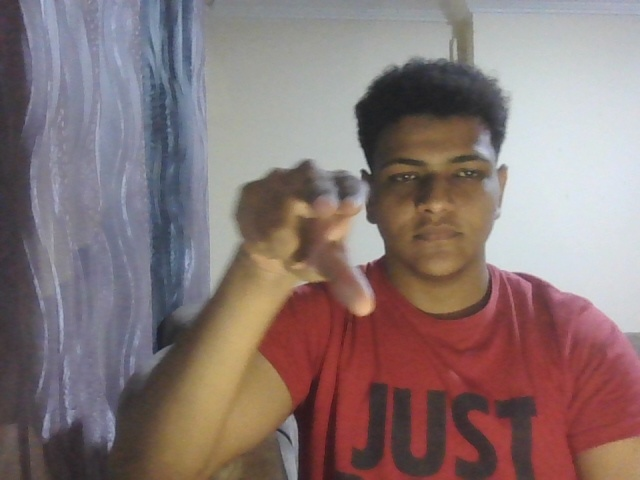no: (226, 146, 378, 339)
